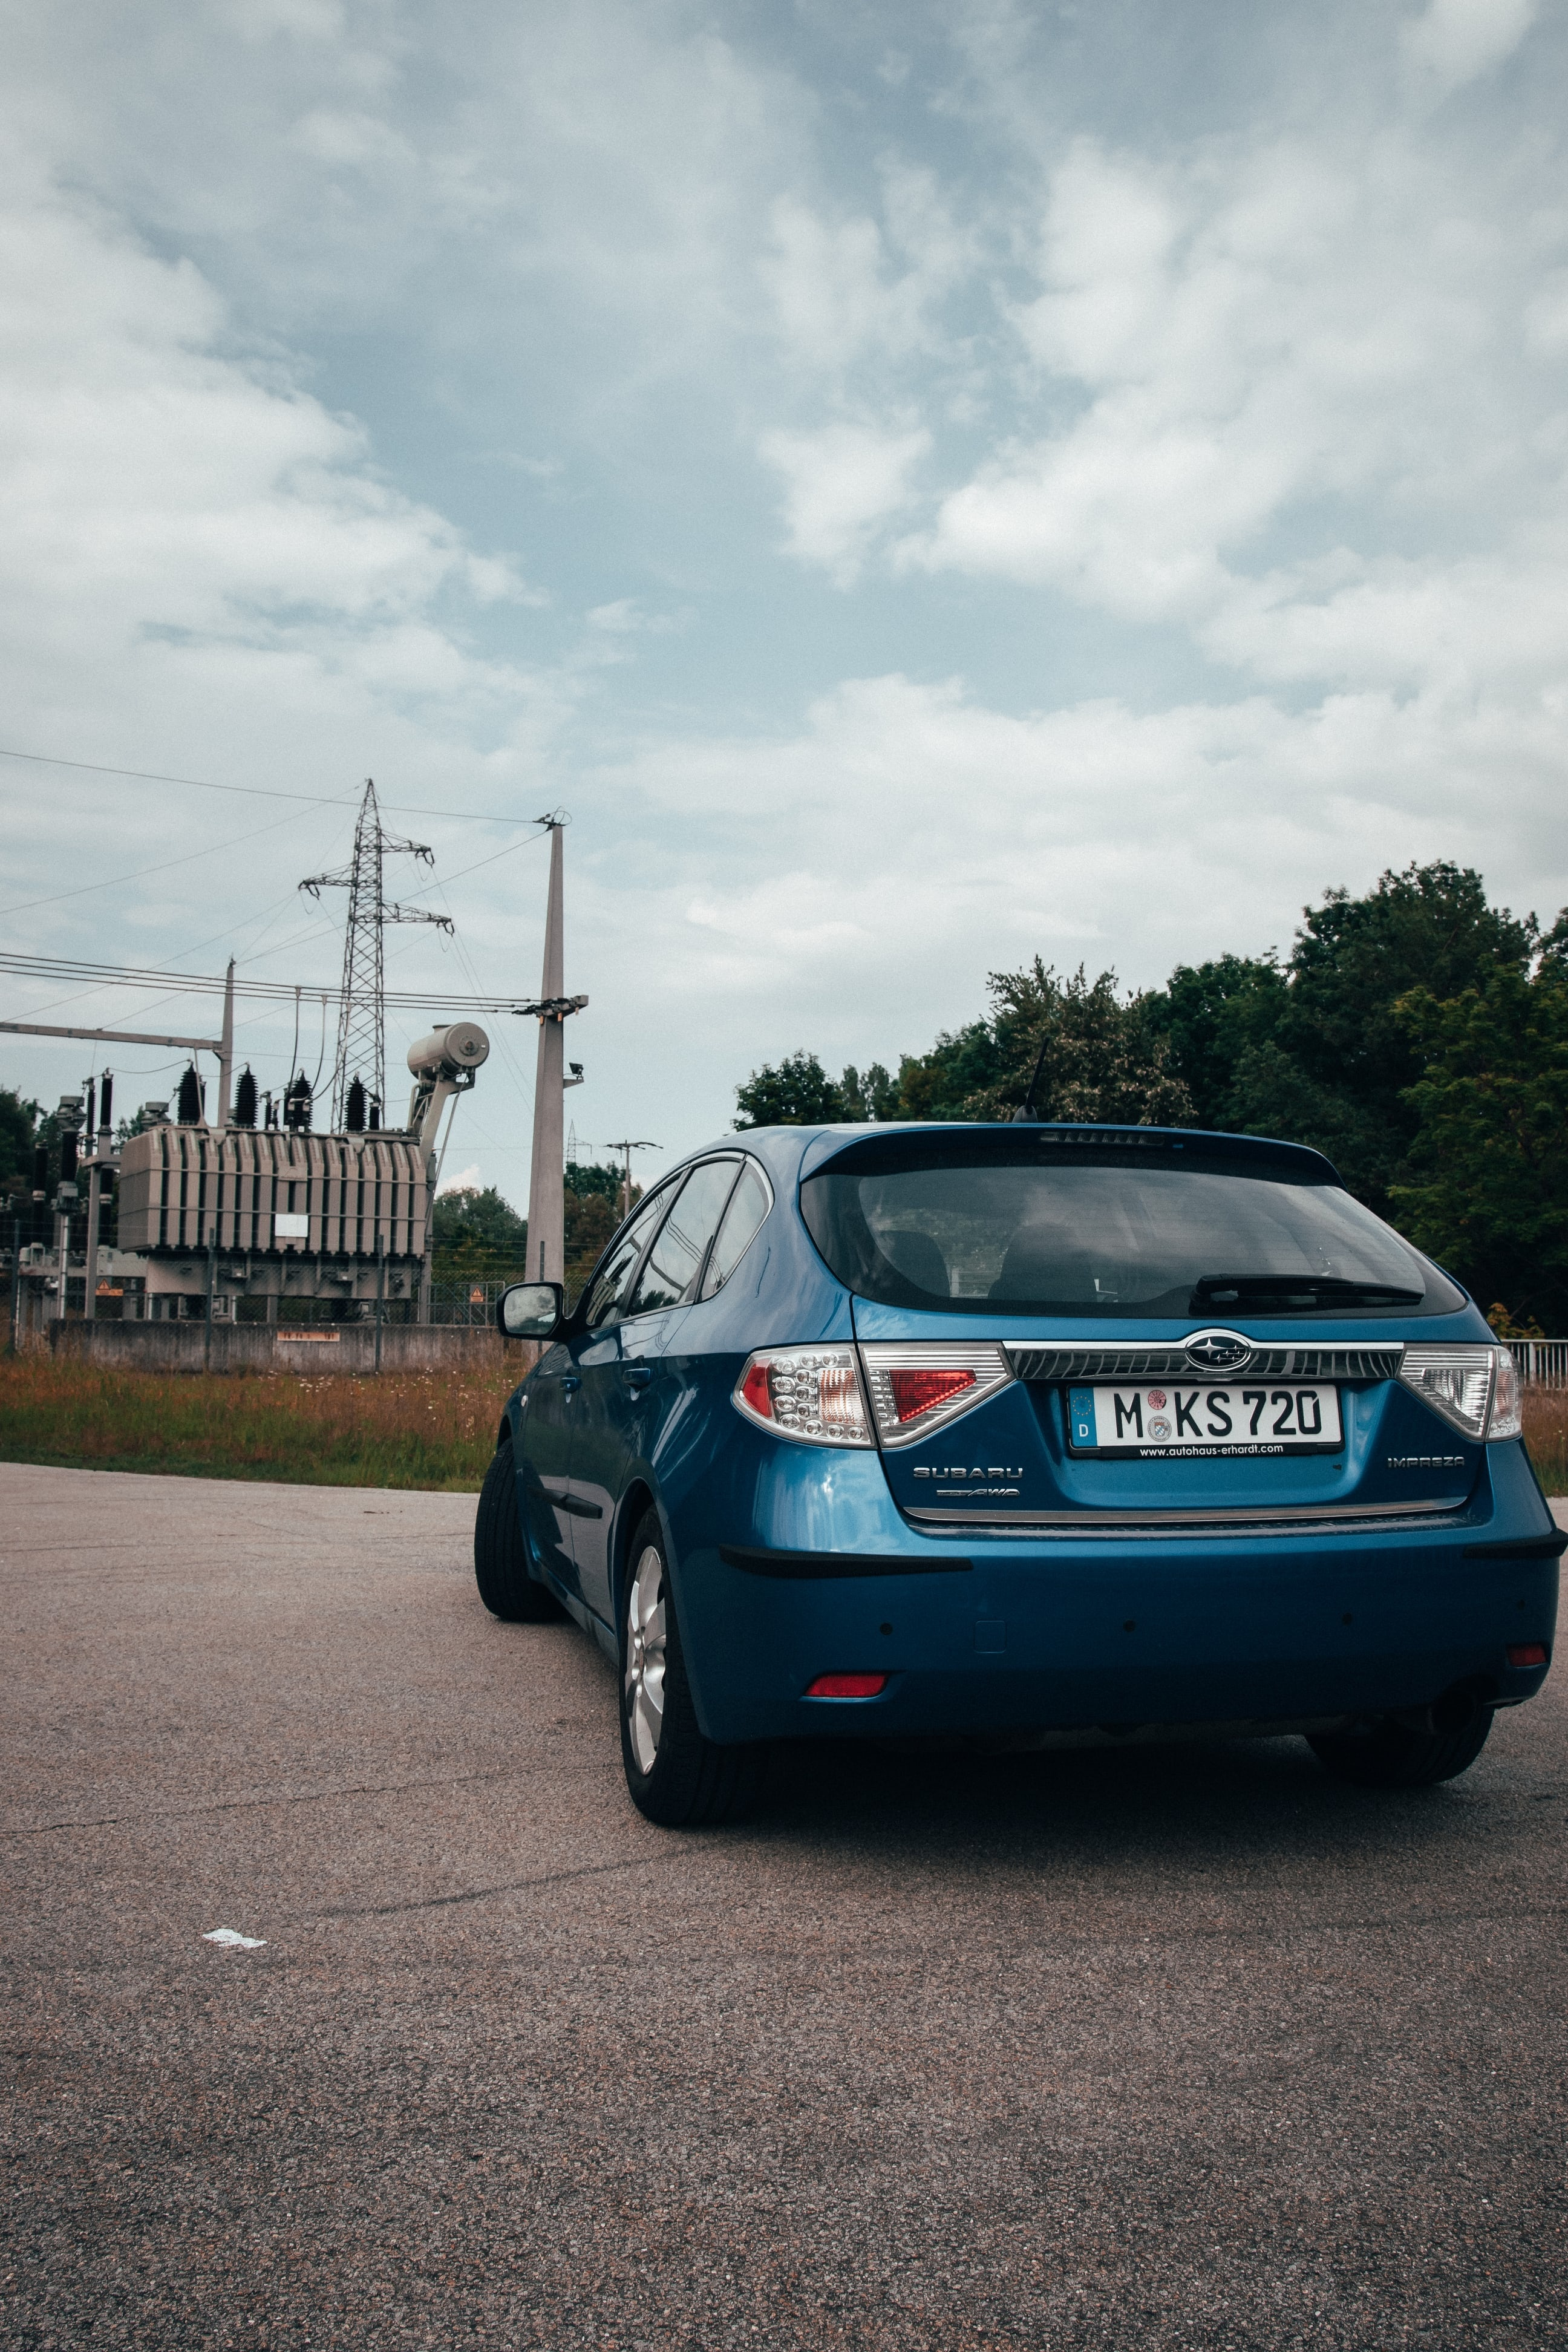plaka: (1067, 1383, 1345, 1451)
